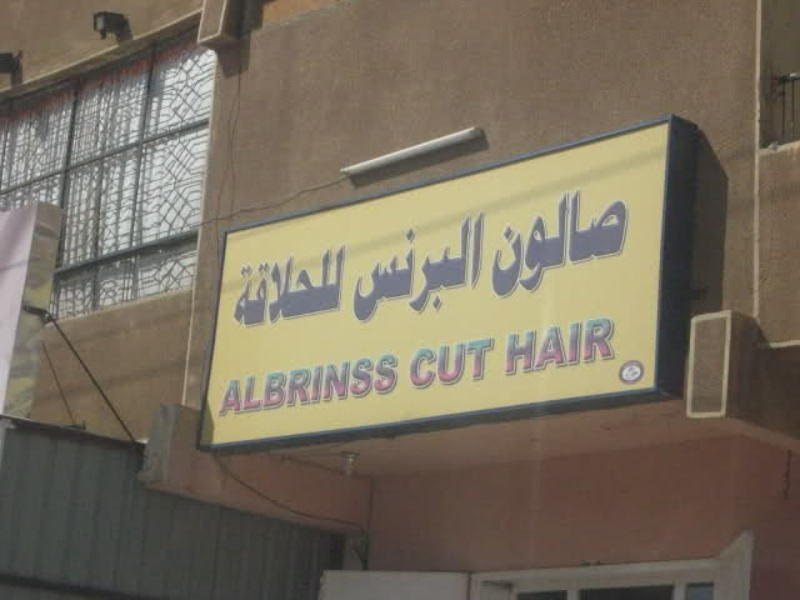text: (497, 176, 512, 309), (513, 176, 528, 309), (529, 176, 544, 309), (545, 176, 560, 309), (561, 176, 576, 309), (577, 176, 592, 309), (593, 176, 608, 309), (609, 176, 624, 309), (353, 209, 368, 331), (369, 209, 384, 331), (385, 209, 400, 331), (401, 209, 416, 331), (417, 209, 432, 331), (433, 209, 448, 331), (449, 209, 464, 331), (465, 209, 480, 331), (241, 242, 256, 336), (257, 242, 272, 336), (273, 242, 288, 336), (289, 242, 304, 336), (305, 242, 320, 336), (321, 242, 336, 336), (488, 176, 496, 309), (625, 176, 633, 309), (513, 313, 528, 382), (529, 313, 544, 382), (545, 313, 560, 382), (561, 313, 576, 382), (577, 313, 592, 382), (593, 313, 608, 382), (337, 242, 348, 336), (241, 352, 256, 416), (257, 352, 272, 416), (273, 352, 288, 416), (289, 352, 304, 416), (305, 352, 320, 416), (321, 352, 336, 416), (337, 352, 352, 416), (353, 352, 368, 416), (369, 352, 384, 416), (385, 352, 400, 416), (417, 332, 432, 391), (433, 332, 448, 391), (449, 332, 464, 391), (465, 332, 480, 391), (481, 332, 496, 391), (228, 352, 240, 416), (232, 242, 240, 336), (481, 209, 487, 331), (503, 313, 512, 382), (609, 313, 617, 382), (407, 332, 416, 391), (401, 352, 402, 416), (497, 332, 498, 391)
